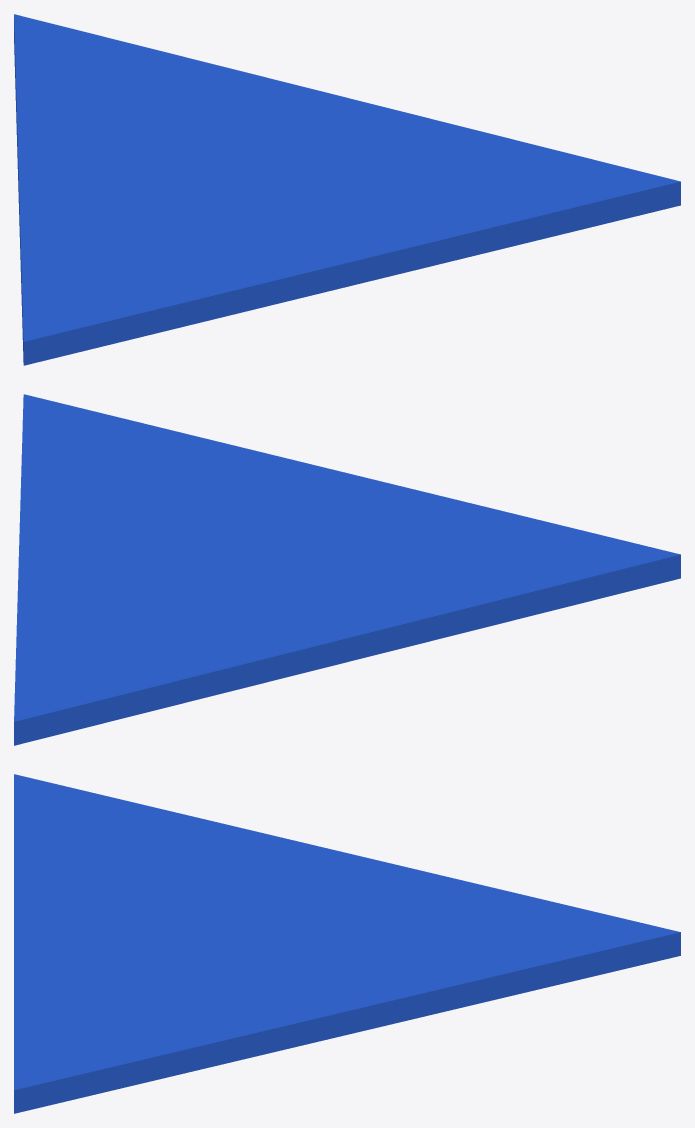
The model's file is opening_pick.glb.
3 renders of one model, top to bottom at view 1: azimuth 30°, elevation 25°; view 2: azimuth 150°, elevation 25°; view 3: azimuth 270°, elevation 25°, orthographic.
Visible parts, largest first — view 1: Opening_pick.001; view 2: Opening_pick.001; view 3: Opening_pick.001.
Part boxes in pixels (<box>): Opening_pick.001: <box>14,14,680,365</box>; Opening_pick.001: <box>14,394,680,745</box>; Opening_pick.001: <box>14,774,680,1113</box>.
Bounding box in the file's own units: 0.046 × 0.0016 × 0.041.
